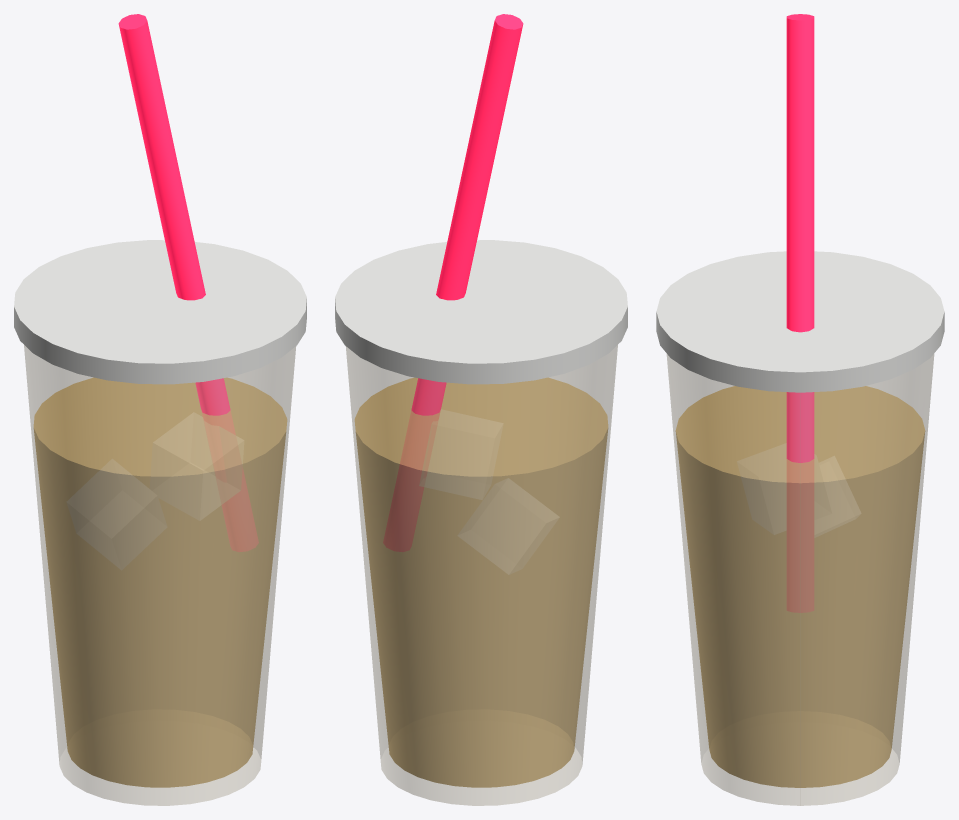
Rendered from es_teh.glb.
The picture shows the model from 3 angles, left to right: view 1: azimuth 30°, elevation 25°; view 2: azimuth 150°, elevation 25°; view 3: azimuth 270°, elevation 25°; orthographic projection.
Visible parts, largest first — view 1: es_teh_Mesh; view 2: es_teh_Mesh; view 3: es_teh_Mesh.
Part boxes in pixels (<box>): es_teh_Mesh: <box>14,14,306,805</box>; es_teh_Mesh: <box>335,14,627,805</box>; es_teh_Mesh: <box>656,14,944,805</box>.
Bounding box in the file's own units: 0.18 × 0.5077 × 0.18.
